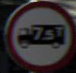Heavy Vehicles: (5, 4, 70, 59)
